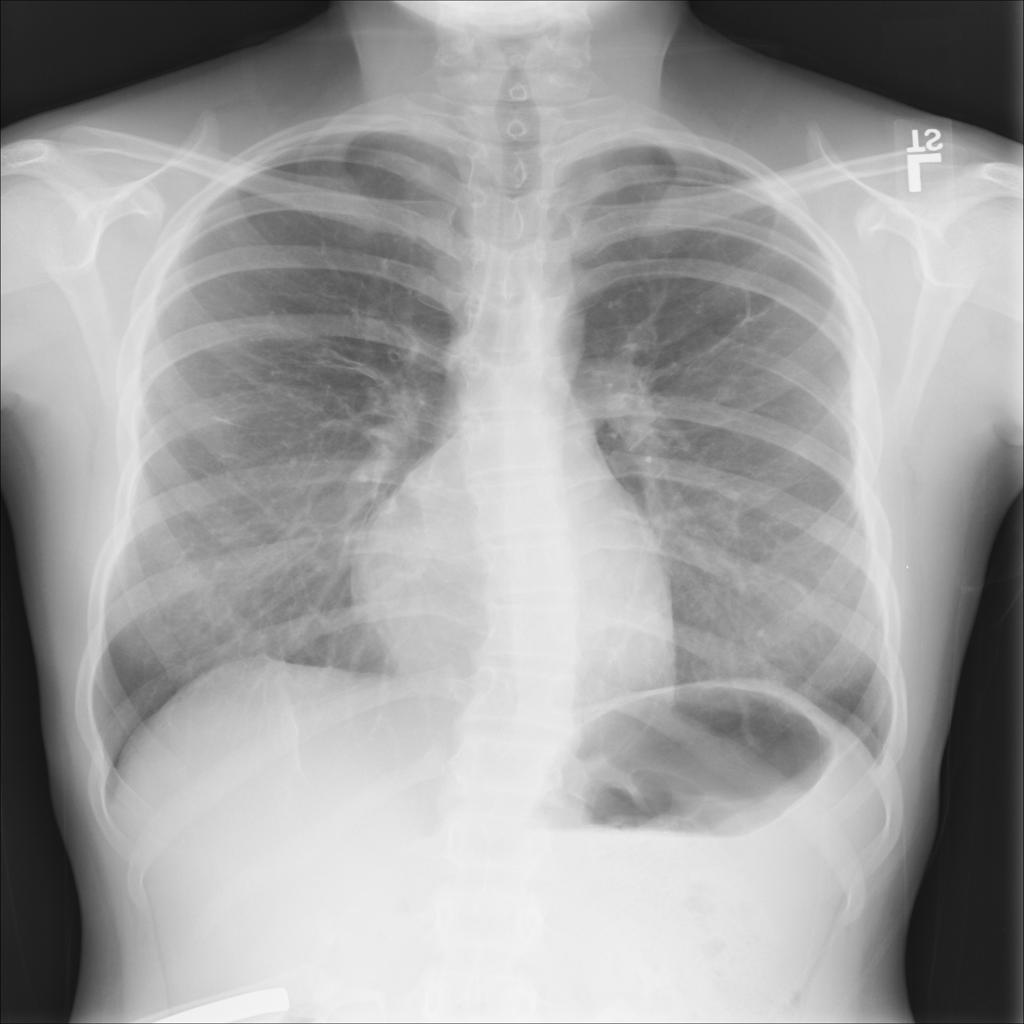nodule: (698, 371, 753, 417)
